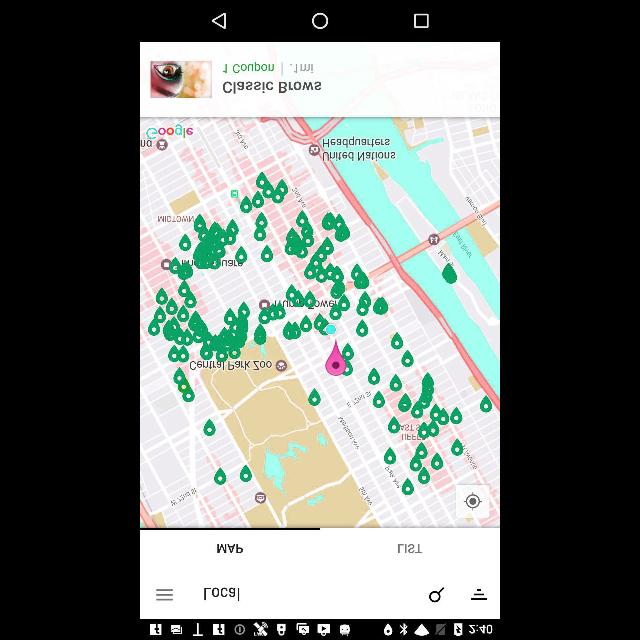icon: (457, 484, 489, 518), (155, 586, 175, 606), (468, 586, 488, 606), (428, 585, 444, 603), (212, 12, 228, 30), (413, 12, 429, 30), (312, 13, 328, 29)
iframe: (146, 58, 324, 100)
map: (140, 116, 500, 530)
multitab: (140, 530, 500, 574)
panel: (140, 42, 500, 116), (140, 574, 500, 618), (141, 2, 499, 40)
text: (200, 581, 244, 605)
uppertaskbar: (140, 619, 500, 639)
